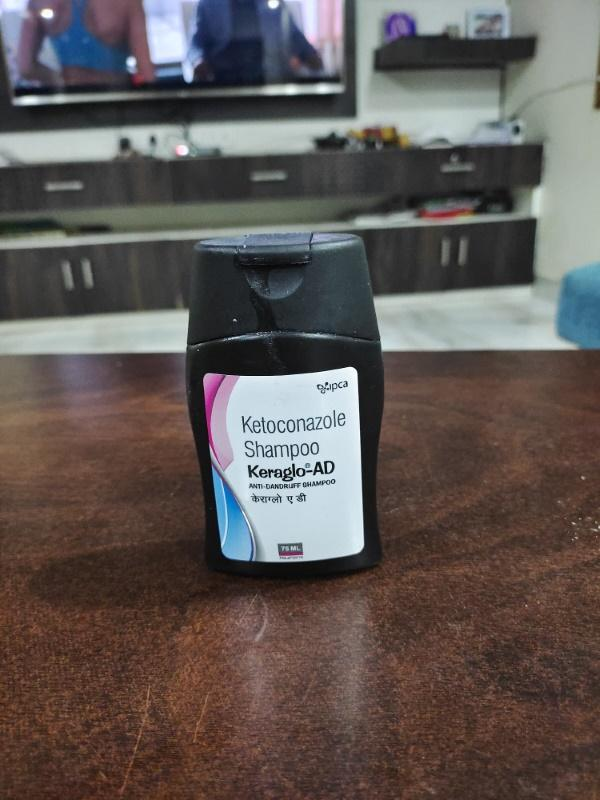KeraGlo: (161, 220, 427, 589)
